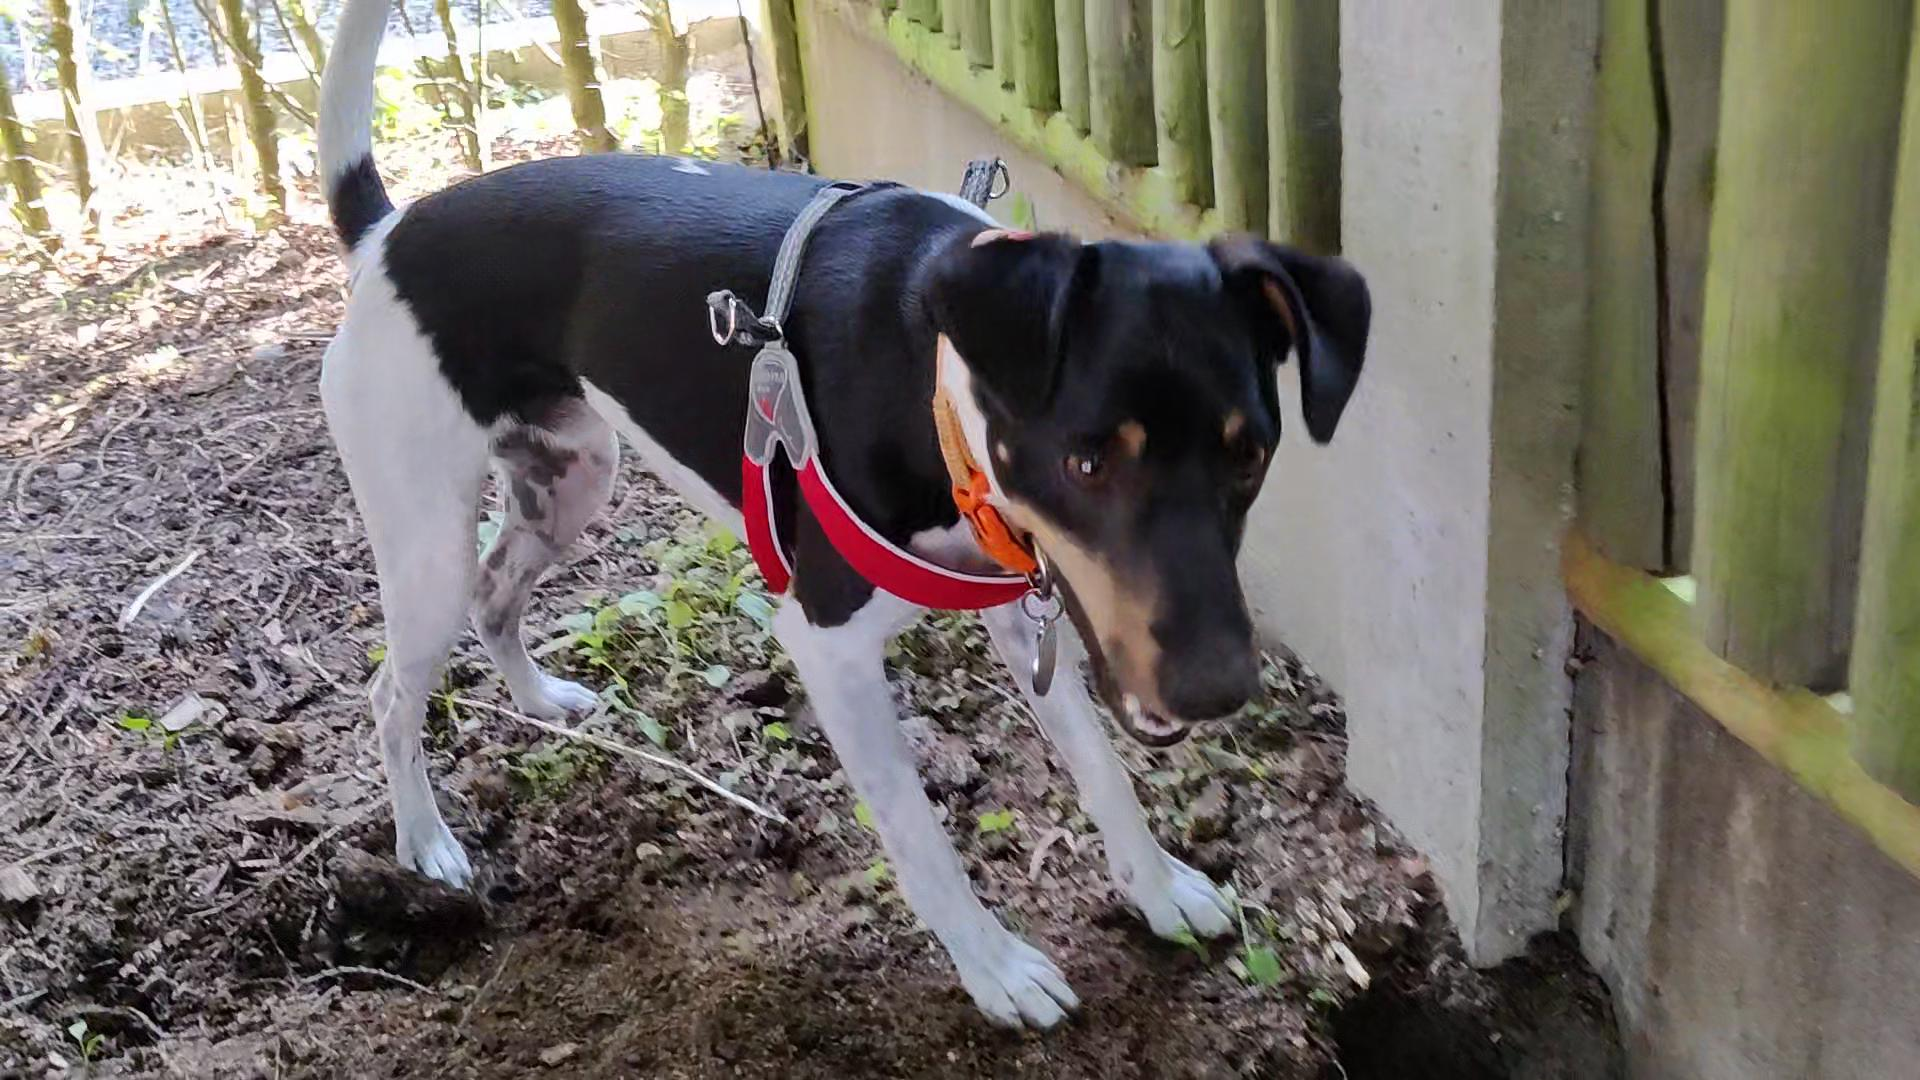Dog: (280, 0, 1387, 1044)
